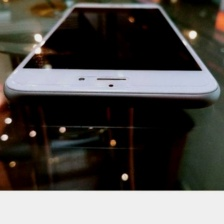phone: (2, 0, 224, 110)
